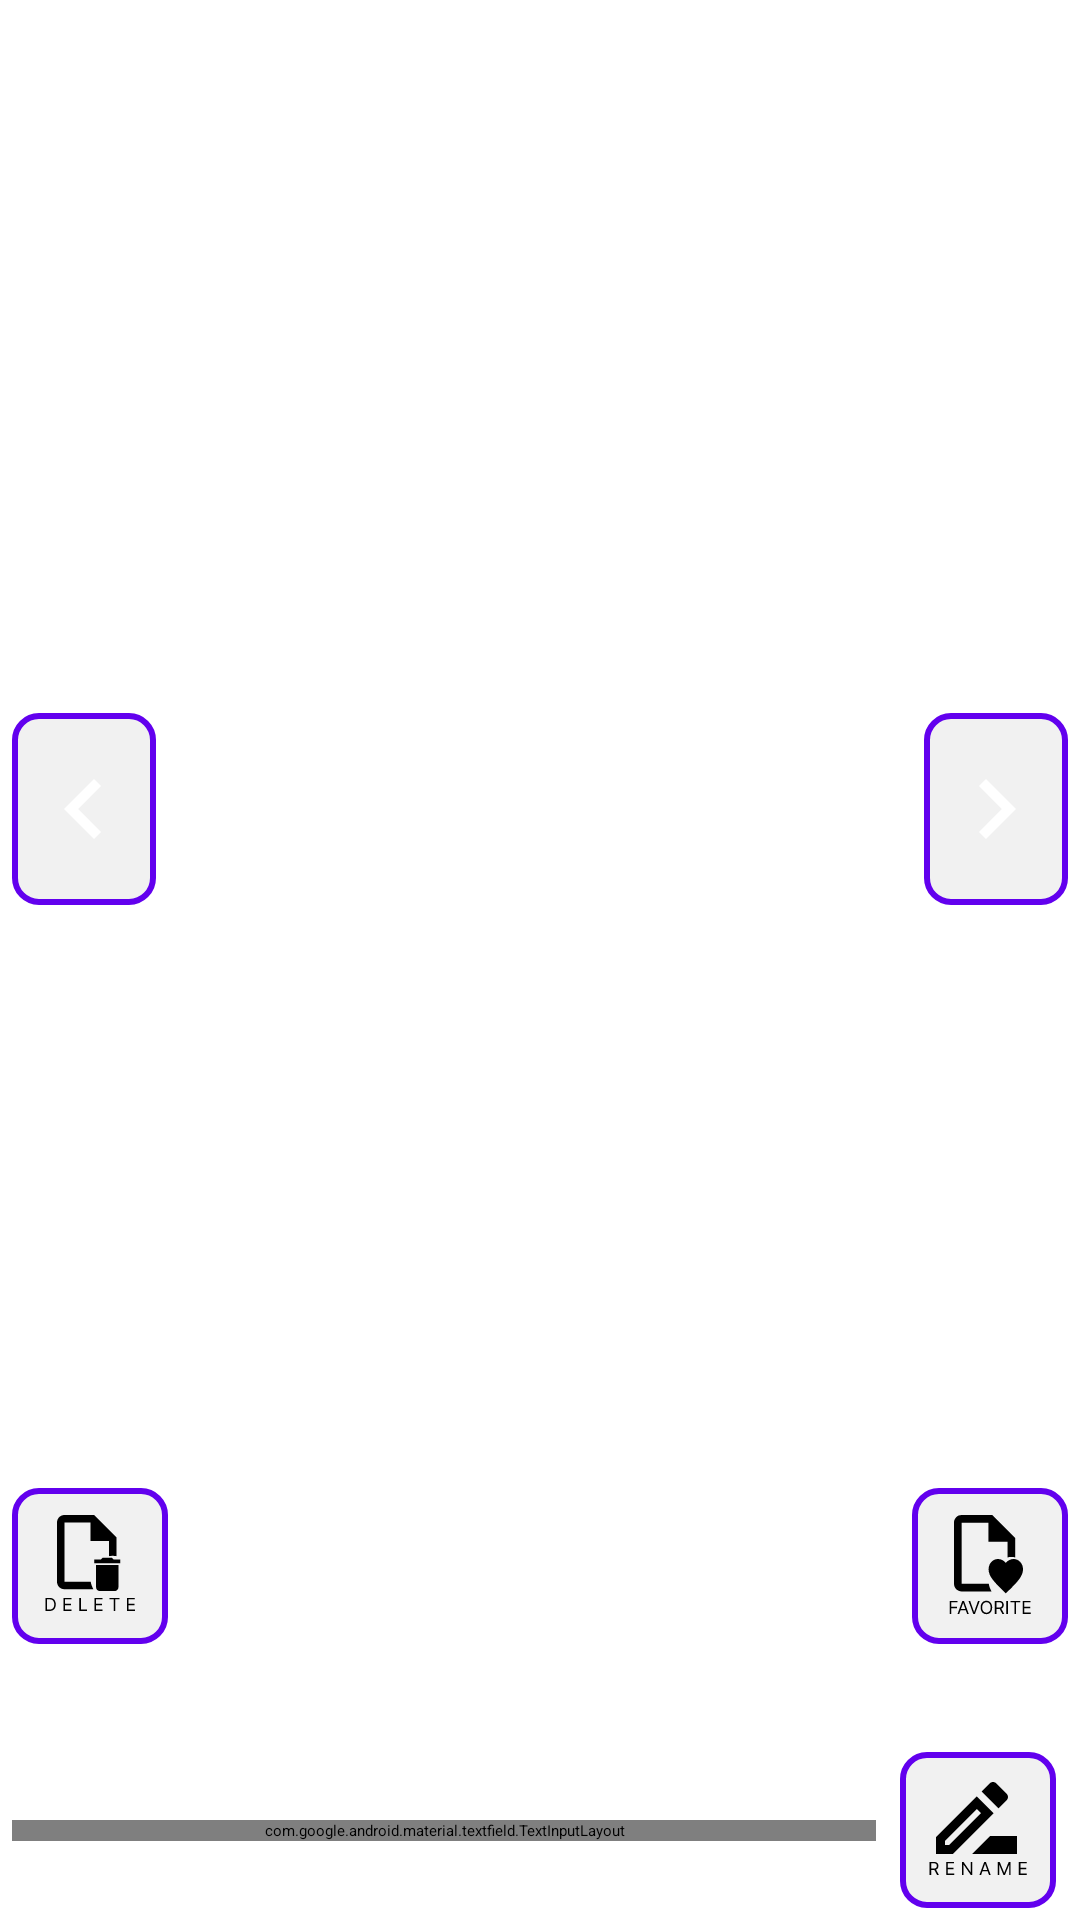

Icon bounding boxes for this 1080 × 1920 phone screenshot, format detection(x1, y1, x2, y2):
keyboard arrow left: detection(12, 713, 156, 905)
keyboard arrow right: detection(924, 713, 1068, 905)
